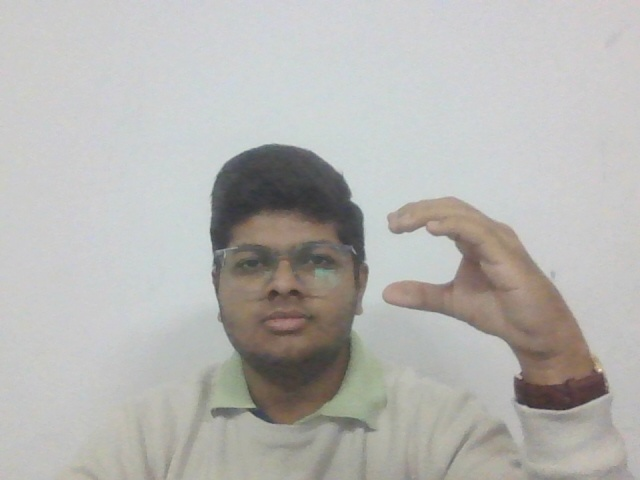C: (379, 192, 586, 362)
